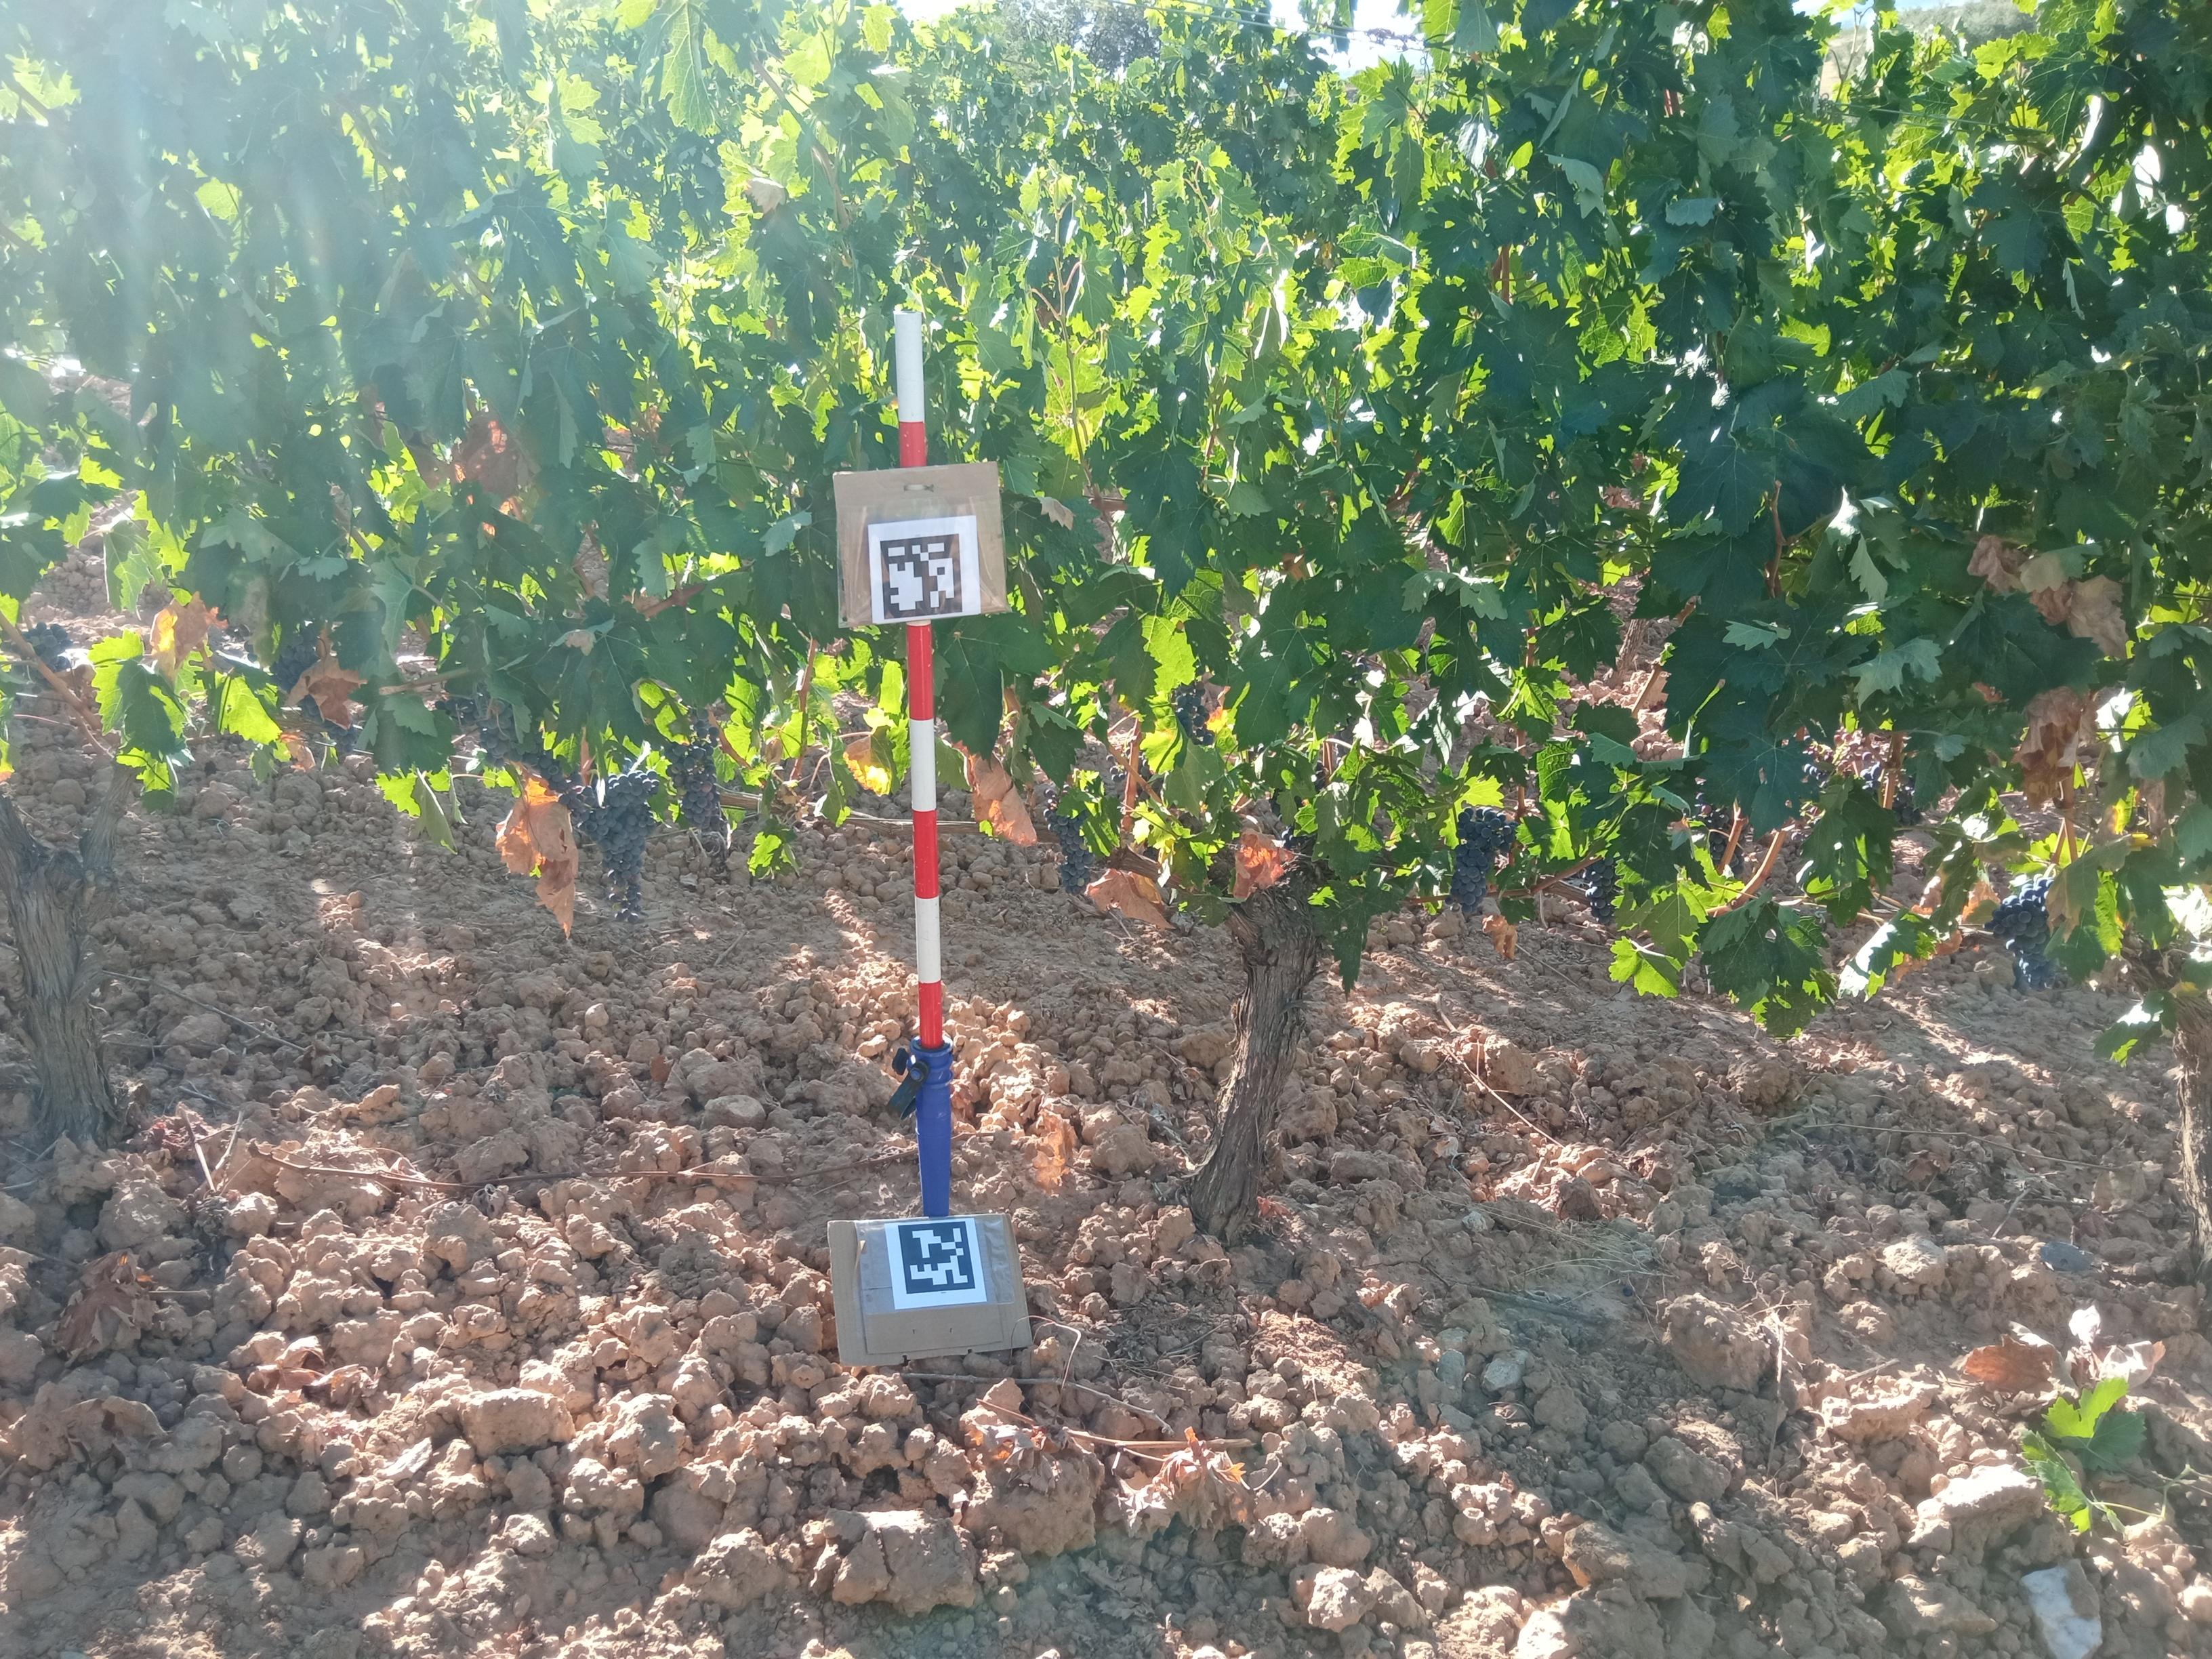grapes: (547, 762, 662, 925), (434, 683, 583, 800), (1980, 870, 2078, 993), (655, 704, 730, 836), (1444, 803, 1521, 918), (1042, 784, 1099, 897), (0, 619, 77, 695), (1855, 746, 1925, 829), (1693, 779, 1747, 877), (296, 690, 359, 767), (268, 622, 322, 701), (1167, 674, 1219, 751), (1801, 728, 1860, 791), (1576, 854, 1620, 927), (214, 601, 260, 666), (1104, 744, 1155, 786), (775, 779, 812, 826), (1336, 650, 1372, 690), (1332, 713, 1360, 765), (2123, 803, 2156, 838), (1280, 824, 1315, 849), (1312, 756, 1331, 795), (1266, 786, 1285, 817), (1292, 793, 1308, 812)
